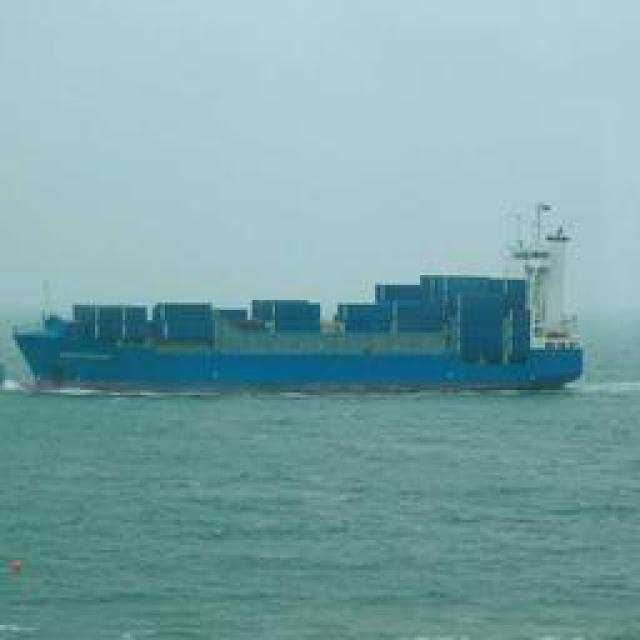Ship: (24, 291, 589, 389)
